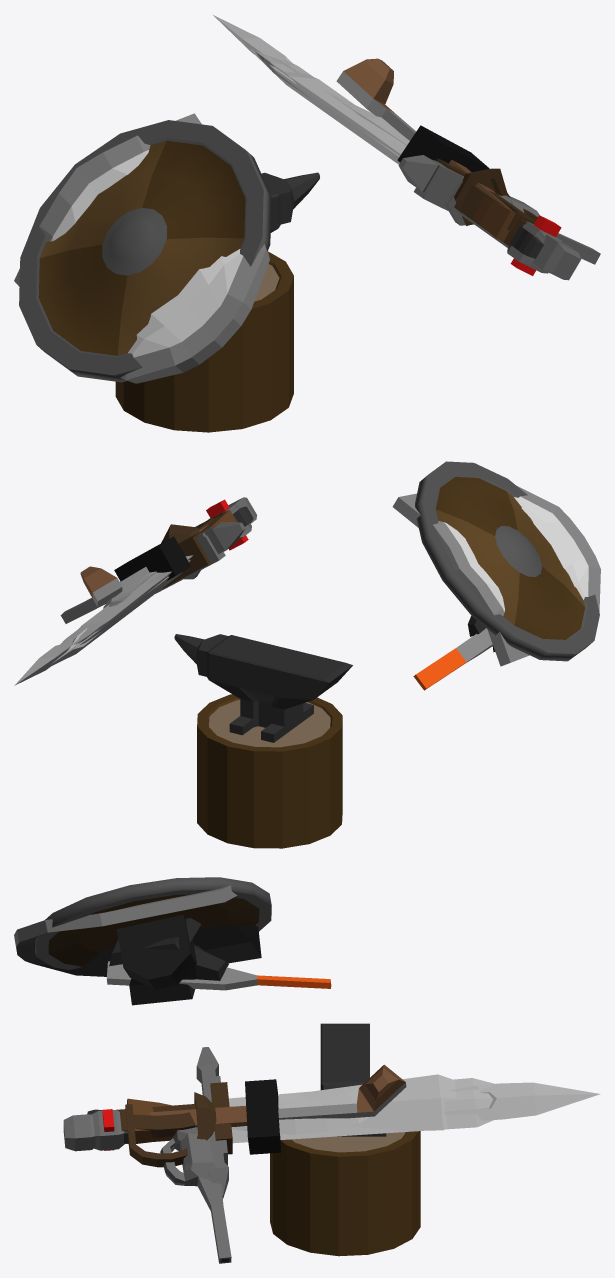
File: CCM-0-Props.fbx
The picture shows the model from 3 angles, top to bottom: view 1: azimuth 30°, elevation 25°; view 2: azimuth 150°, elevation 25°; view 3: azimuth 270°, elevation 25°; orthographic projection. The views are drawn at different scales.
Visible parts, largest first — view 1: LLA-Shield03, AnvilWithStump, LLA-Shield01-White, RH-Sword03, RH-Sword01, RH-GolfClub, RH-Sword05, RH-BlacksmithHammer, RH-Sword02, RH-Revolver, RH-Sword04, RH-Sword06; view 2: AnvilWithStump, LLA-Shield03, LLA-Shield01-White, RH-Sword01, RH-Sword03, RH-BlacksmithHammer, LH-BlacksmithIron, RH-Sword02, RH-GolfClub, RH-Sword06, RH-Sword05, RH-Revolver; view 3: AnvilWithStump, LLA-Shield01-White, LLA-Shield03, RH-Sword03, RH-Sword01, RH-Sword05, RH-Sword06, RH-Revolver, LH-BlacksmithIronWithGlove, RH-BlacksmithHammer, RH-GolfClub, LH-BlacksmithIron.
Boxes of the visible parts, bbox=[...] form: LLA-Shield03: bbox=[19, 120, 271, 382]; AnvilWithStump: bbox=[115, 172, 319, 432]; LLA-Shield01-White: bbox=[14, 113, 269, 383]; RH-Sword03: bbox=[213, 15, 581, 280]; RH-Sword01: bbox=[284, 71, 526, 246]; RH-GolfClub: bbox=[336, 58, 416, 140]; RH-Sword05: bbox=[324, 90, 537, 231]; RH-BlacksmithHammer: bbox=[397, 125, 511, 210]; RH-Sword02: bbox=[249, 48, 548, 273]; RH-Revolver: bbox=[473, 195, 600, 264]; RH-Sword04: bbox=[255, 51, 543, 258]; RH-Sword06: bbox=[263, 55, 561, 275]; AnvilWithStump: bbox=[174, 634, 352, 848]; LLA-Shield03: bbox=[415, 461, 599, 661]; LLA-Shield01-White: bbox=[392, 486, 600, 666]; RH-Sword01: bbox=[77, 524, 211, 631]; RH-Sword03: bbox=[14, 497, 256, 685]; RH-BlacksmithHammer: bbox=[114, 525, 208, 581]; LH-BlacksmithIron: bbox=[413, 628, 492, 690]; RH-Sword02: bbox=[49, 507, 251, 666]; RH-GolfClub: bbox=[80, 566, 149, 607]; RH-Sword06: bbox=[61, 499, 248, 651]; RH-Sword05: bbox=[103, 511, 225, 608]; RH-Revolver: bbox=[60, 510, 236, 623]; AnvilWithStump: bbox=[270, 1023, 420, 1256]; LLA-Shield01-White: bbox=[14, 885, 261, 989]; LLA-Shield03: bbox=[35, 877, 271, 969]; RH-Sword03: bbox=[63, 1047, 600, 1198]; RH-Sword01: bbox=[116, 1074, 456, 1154]; RH-Sword05: bbox=[125, 1086, 369, 1167]; RH-Sword06: bbox=[91, 1076, 494, 1165]; RH-Revolver: bbox=[127, 1098, 231, 1263]; LH-BlacksmithIronWithGlove: bbox=[106, 918, 228, 1005]; RH-BlacksmithHammer: bbox=[149, 1079, 281, 1154]; RH-GolfClub: bbox=[278, 1064, 406, 1119]; LH-BlacksmithIron: bbox=[129, 967, 331, 990].
Bounding box in the file's own units: 1.93 × 1.96 × 1.14.
1 material, 1 textured.
